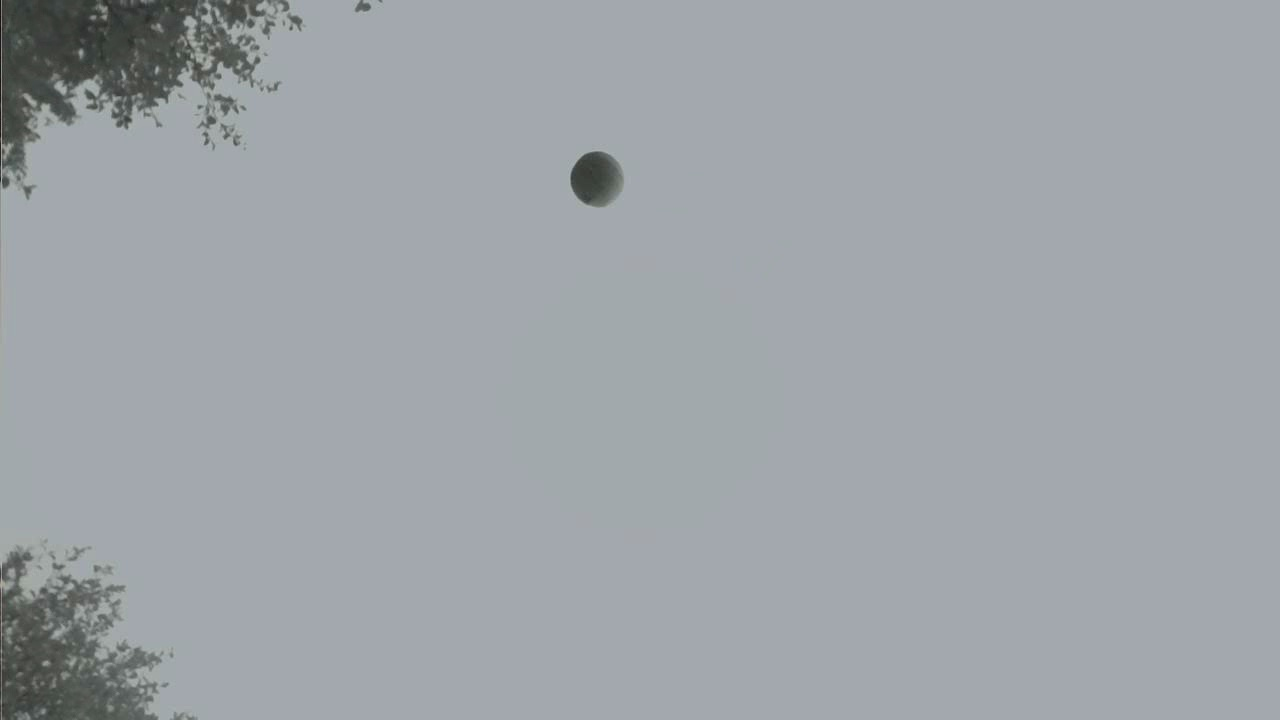Football-Spotter: (571, 152, 622, 206)
